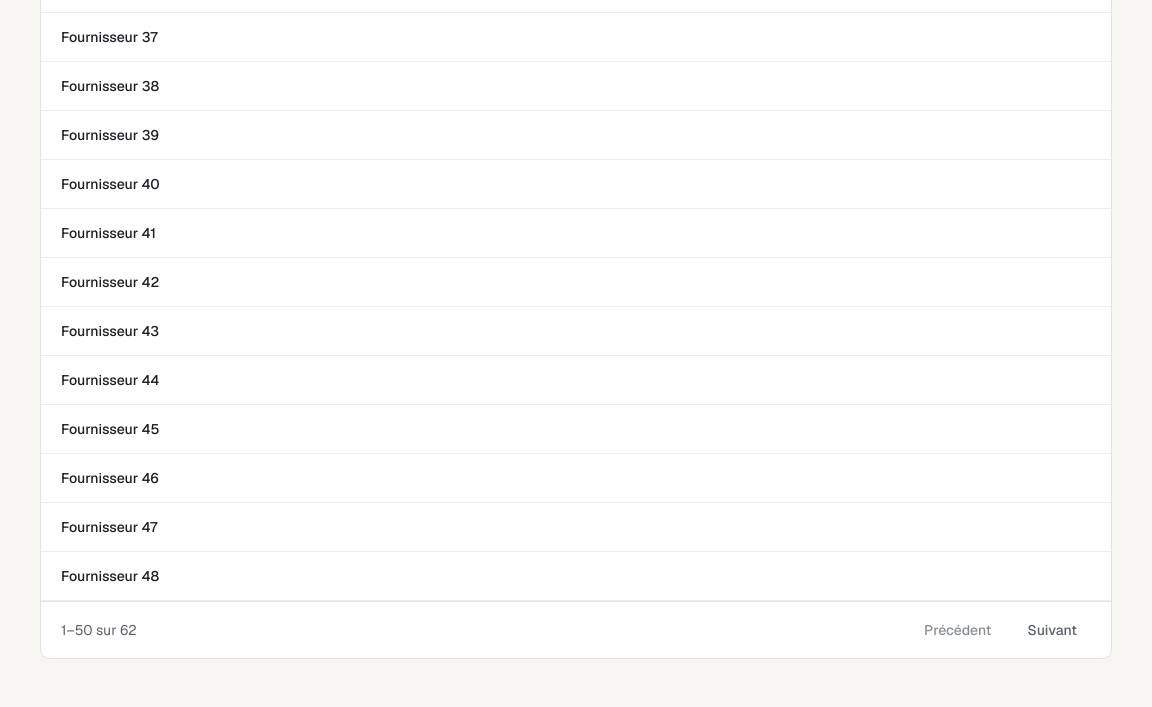
Test case: fournisseurs › la liste est paginée et montre le savoir-faire et le portable
The width and height of the screenshot is (1152, 707).
(page scrolled)
Expected: the text "1–50 sur 62" is shown, [61, 620, 137, 640]
Click the button "Suivant" at {"x": 1052, "y": 630}, box [1014, 612, 1091, 648]
(page scrolled)
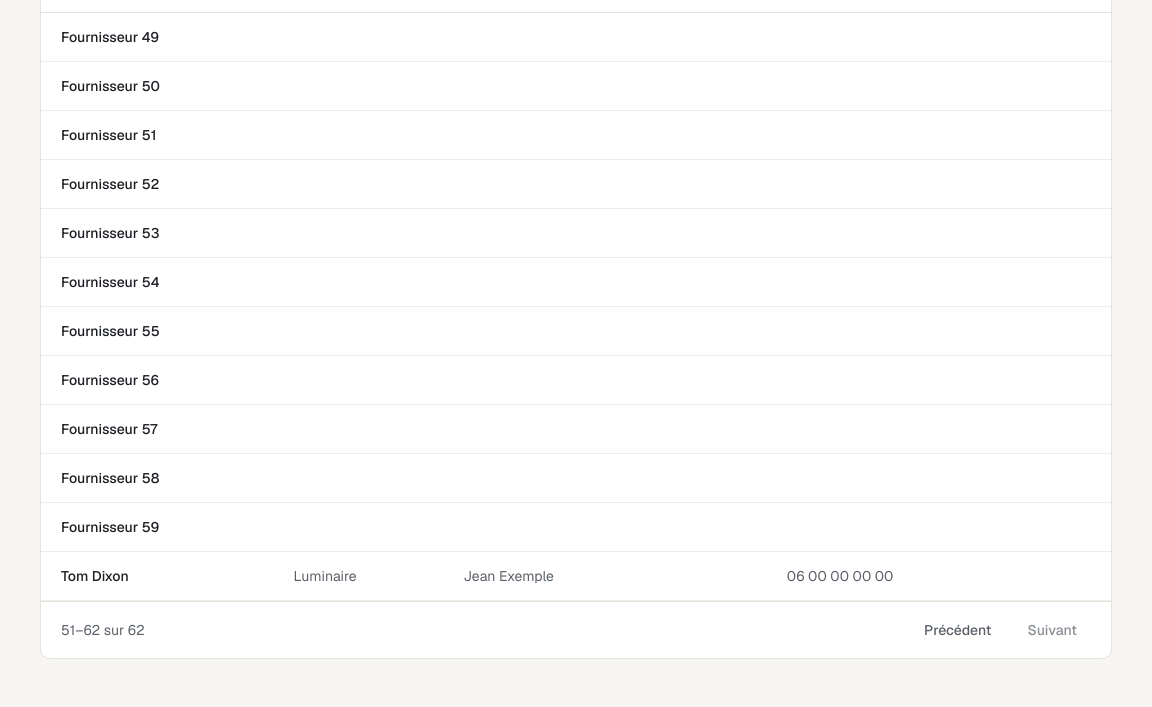
Expected: the text "51–62 sur 62" is shown, [61, 620, 145, 640]
Expected: the text "Tom Dixon" is shown, [61, 567, 129, 585]
Expected: the text "06 00 00 00 00" is shown, [775, 551, 1015, 600]
